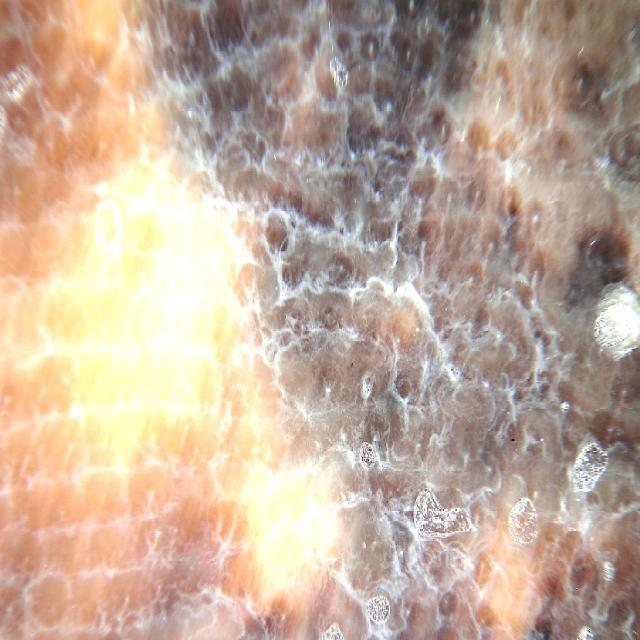Melanoma: (10, 197, 572, 616)
